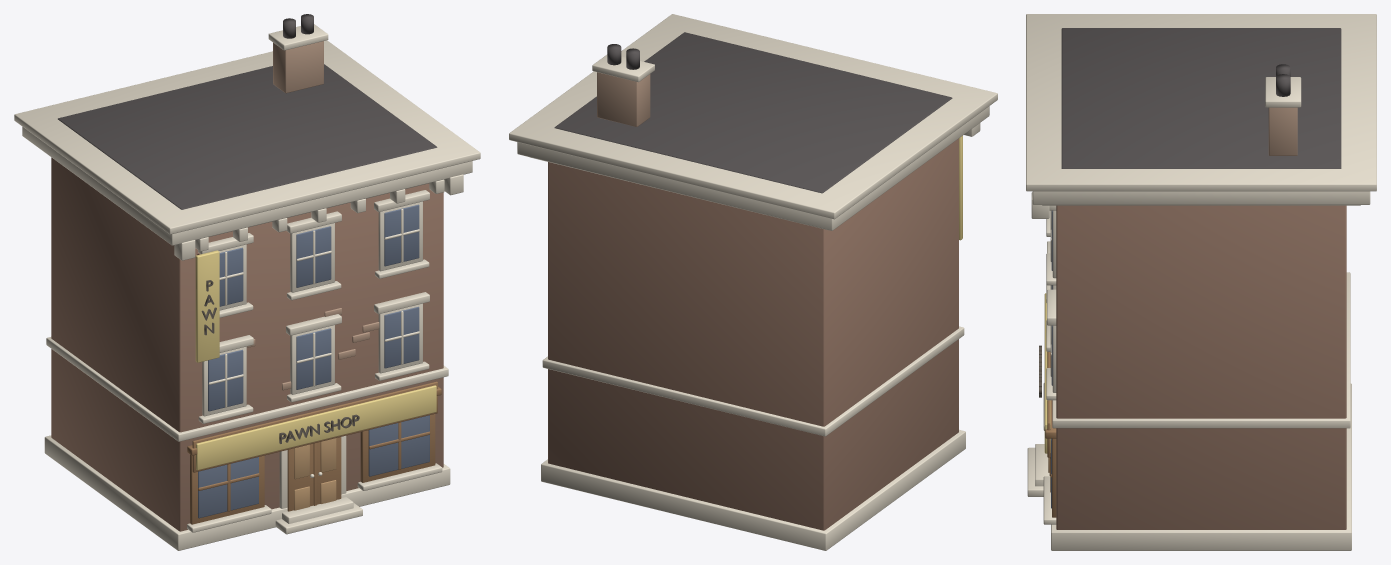
File: edificio_04.glb
3 renders of one model, left to right at view 1: azimuth 30°, elevation 25°; view 2: azimuth 150°, elevation 25°; view 3: azimuth 270°, elevation 25°, orthographic. The views are drawn at different scales.
Parts seen in each view (by area): view 1: corpo, tetto, cornicione_corona, insegna_h, zoccolo, cornicione_fascia, fascia_pt, vetrina_vetro_R, vetrina_vetro_L, insegna_v, comignolo_fusto, fin_p2_1_vetro (+24 smaller); view 2: corpo, tetto, cornicione_corona, zoccolo, cornicione_fascia, fascia_pt, comignolo_fusto, comignolo_cappello; view 3: corpo, tetto, cornicione_corona, zoccolo, cornicione_fascia, fascia_pt, comignolo_fusto, comignolo_cappello, insegna_h, gradino_basso, gradino_alto, vetrina_davanzale_R.
Boxes of the visible parts, x1,y1,x2,y2 form: corpo: [51, 157, 443, 531]; tetto: [58, 64, 437, 209]; cornicione_corona: [14, 40, 480, 234]; insegna_h: [196, 385, 436, 470]; zoccolo: [44, 435, 450, 550]; cornicione_fascia: [22, 127, 472, 245]; fascia_pt: [46, 337, 448, 441]; vetrina_vetro_R: [368, 415, 429, 476]; vetrina_vetro_L: [198, 457, 258, 518]; insegna_v: [195, 250, 219, 362]; comignolo_fusto: [273, 41, 323, 93]; fin_p2_1_vetro: [296, 226, 331, 287]; corpo: [548, 138, 958, 530]; tetto: [554, 32, 952, 193]; cornicione_corona: [509, 14, 997, 219]; zoccolo: [541, 429, 965, 550]; cornicione_fascia: [517, 106, 989, 230]; fascia_pt: [542, 326, 964, 436]; comignolo_fusto: [597, 72, 650, 126]; comignolo_cappello: [592, 54, 654, 82]; corpo: [1056, 205, 1346, 529]; tetto: [1061, 28, 1341, 168]; cornicione_corona: [1026, 14, 1376, 191]; zoccolo: [1051, 383, 1351, 550]; cornicione_fascia: [1032, 191, 1370, 204]; fascia_pt: [1052, 272, 1350, 428]; comignolo_fusto: [1268, 107, 1297, 155]; comignolo_cappello: [1265, 77, 1301, 107]; insegna_h: [1044, 293, 1050, 453]; gradino_basso: [1027, 447, 1043, 496]; gradino_alto: [1035, 444, 1049, 486]; vetrina_davanzale_R: [1043, 476, 1056, 524].
Size of the model in its own units: 7.65 by 9.46 by 6.65.
